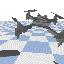drone: (12, 9, 64, 47)
